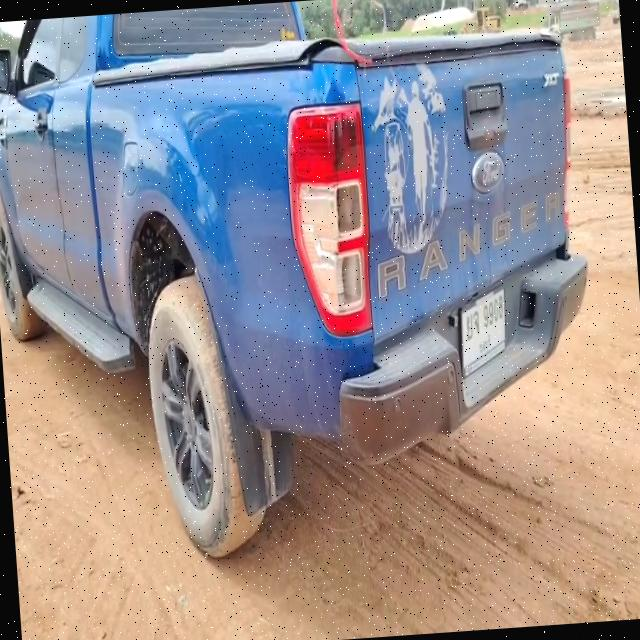Digit: (480, 292, 505, 330)
Licenseplate: (459, 281, 507, 382)
Provincename: (476, 328, 494, 358)
Thaichar: (463, 308, 480, 340)
